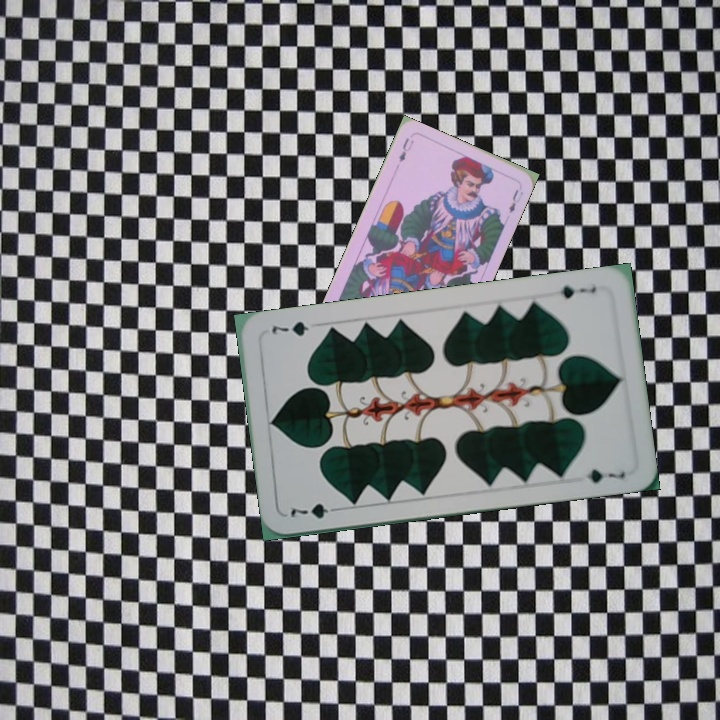EU: (395, 134, 416, 165)
G7: (286, 499, 344, 521), (548, 282, 599, 301)
